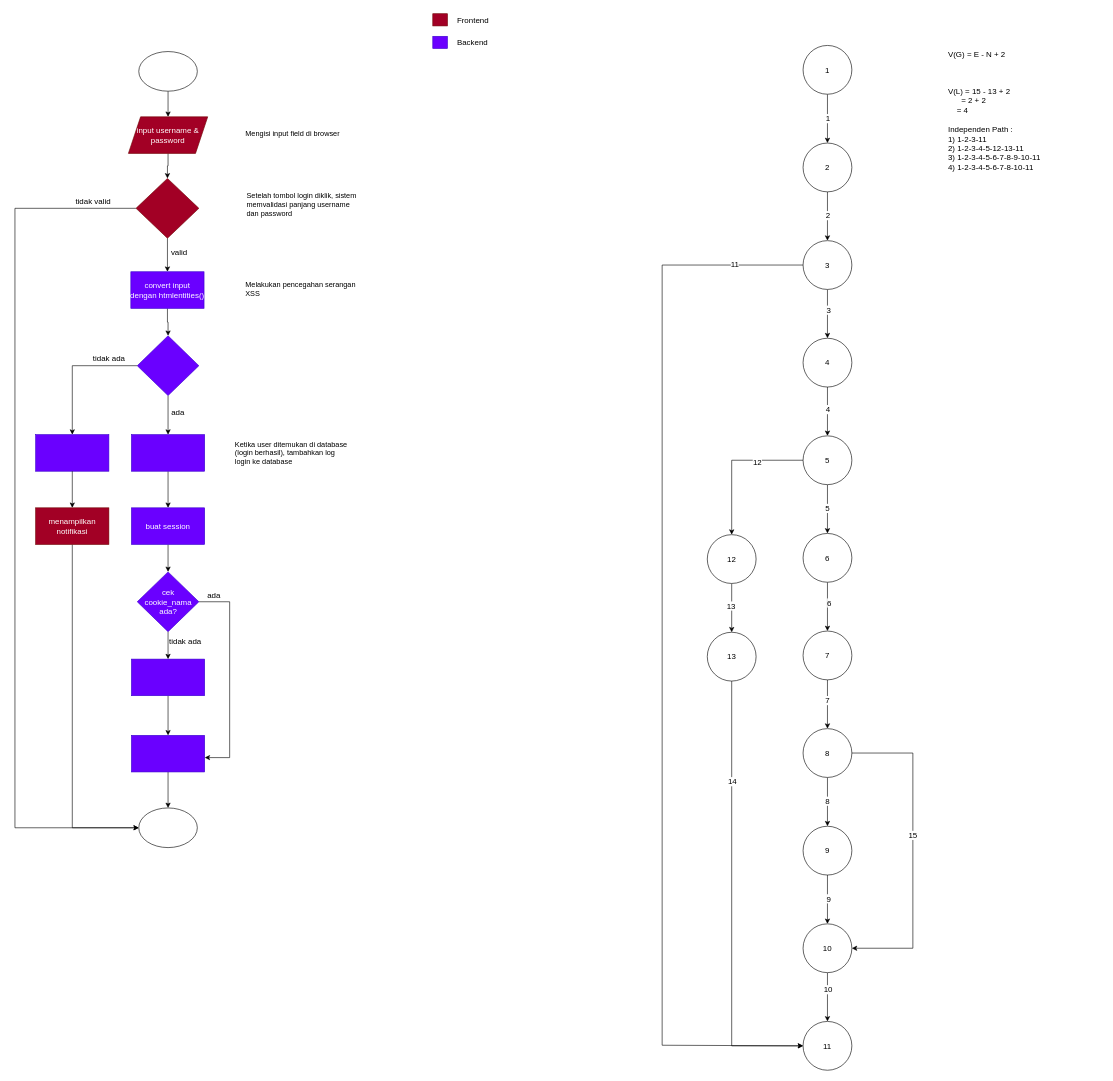
This 1113x1081 diagram has some shape labels left out. The centre of each missing label's shape, as x and y in pixels:
buat log login: the point at 168,452
cek user di database: the point at 168,365
Mulai: the point at 167,71
redirect ke halaman login, dengan notifikasi: the point at 72,452
redirect ke home page: the point at 168,753
Selesai: the point at 167,827
set cookie_nama & cookie_kelas: the point at 168,677
validasi input: the point at 167,208
